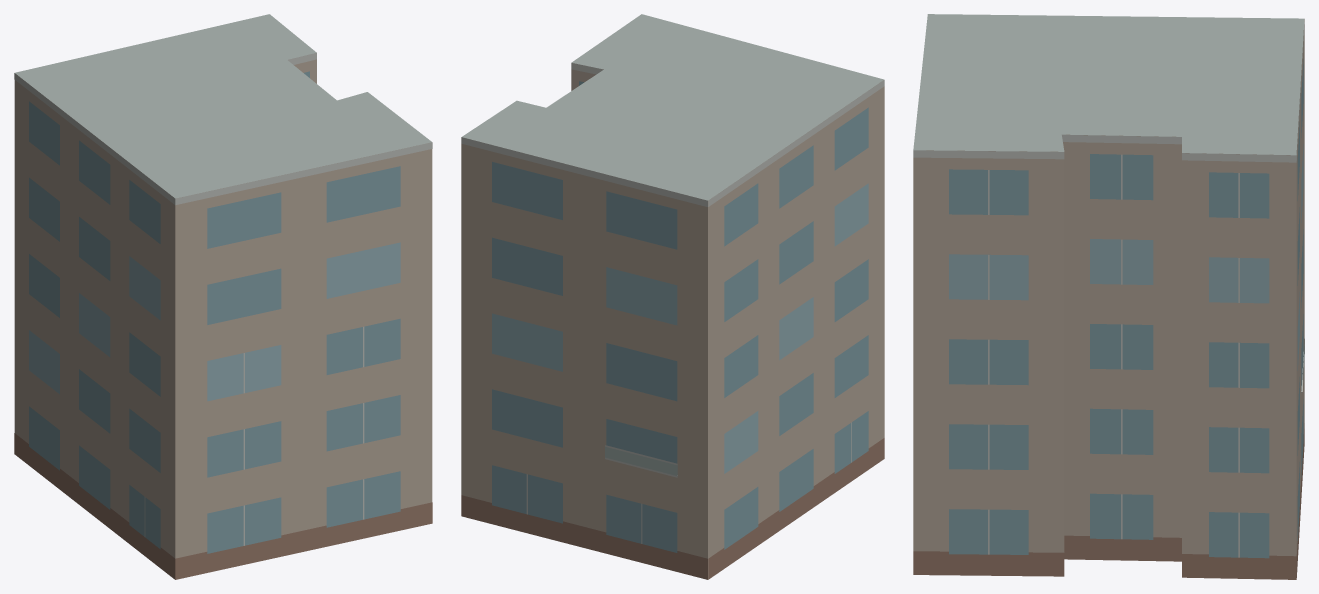
Rendered from survey-upis-32804690.glb.
3 renders of one model, left to right at view 1: azimuth 30°, elevation 25°; view 2: azimuth 150°, elevation 25°; view 3: azimuth 270°, elevation 25°, orthographic. The views are drawn at different scales.
Parts seen in each view (by area): view 1: survey-upis-32804690.tmp; view 2: survey-upis-32804690.tmp; view 3: survey-upis-32804690.tmp.
Boxes of the visible parts, x1,y1,x2,y2 form: survey-upis-32804690.tmp: (14,14,432,579); survey-upis-32804690.tmp: (461,14,884,579); survey-upis-32804690.tmp: (913,14,1304,579).
Bounding box in the file's own units: 10 × 14 × 11.71.
